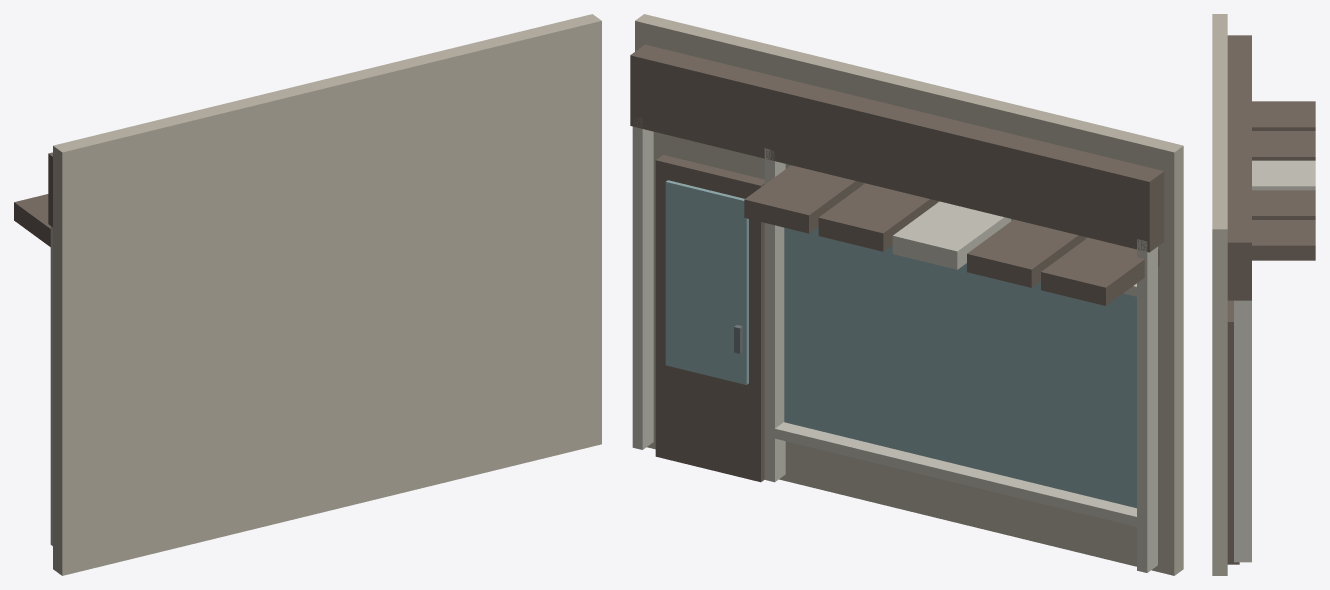
The model's file is facade_cafe.glb.
3 views of the same model, side by side, from view 1: azimuth 30°, elevation 25°; view 2: azimuth 150°, elevation 25°; view 3: azimuth 270°, elevation 25° (orthographic). The views are drawn at different scales.
Parts seen in each view (by area): view 1: body; view 2: body; view 3: body.
Boxes of the visible parts, left/top/right/bottom form: body: left=14, top=14, right=601, bottom=575; body: left=630, top=14, right=1183, bottom=575; body: left=1212, top=14, right=1315, bottom=575.
Bounding box in the file's own units: 4 × 3 × 0.81.
